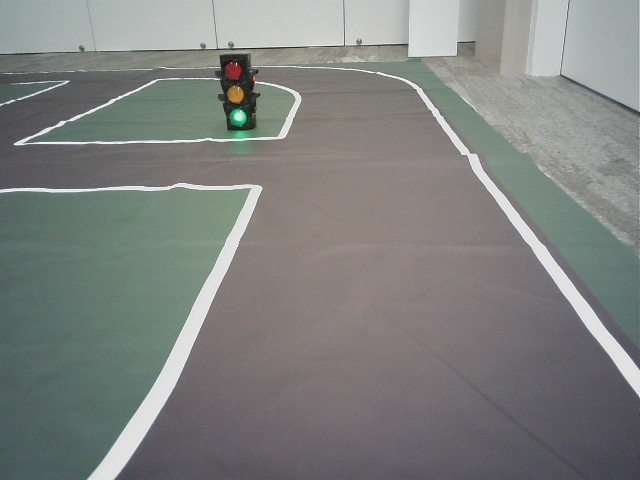green: (219, 57, 251, 127)
